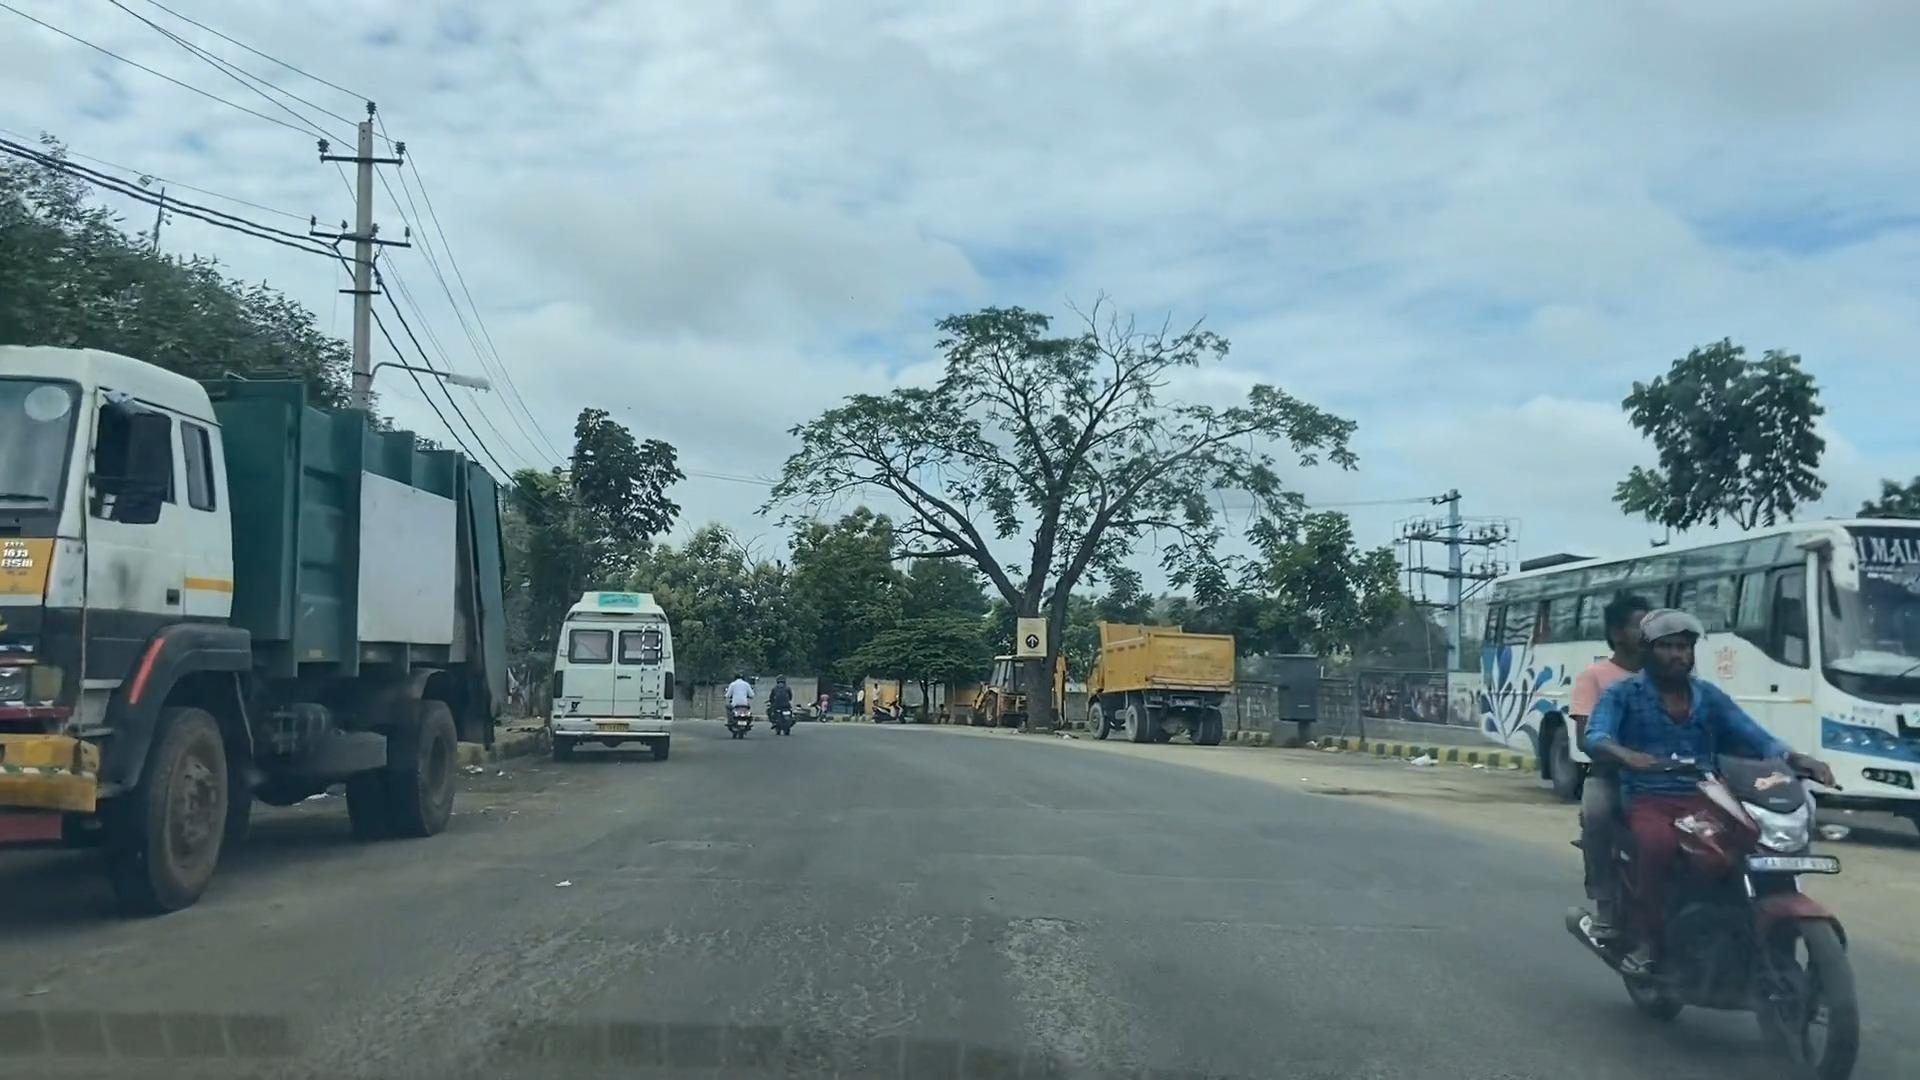HMV: (0, 332, 547, 931), (1432, 504, 1920, 820), (542, 574, 684, 781), (1055, 608, 1242, 745), (928, 632, 1077, 740)
LMV: (1560, 583, 1905, 1080), (712, 626, 785, 761), (764, 624, 828, 770)
RoadDamages: (911, 856, 1163, 1069)
